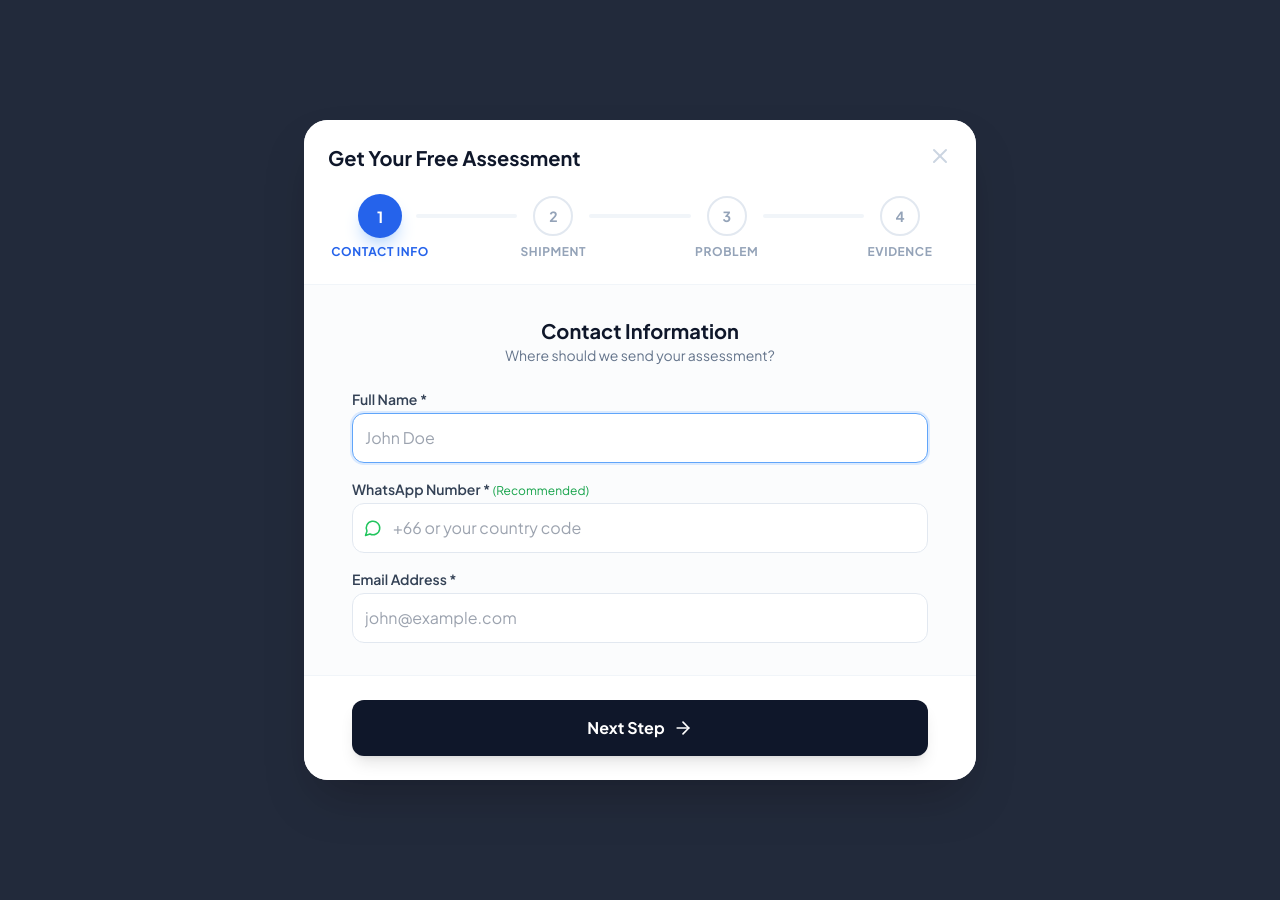
Test: ImportAssessmentWizard Integration › validates step 1 and blocks navigation if empty
# Try to click next without filling anything
Click the button "Next Step": (640, 728) [352,700,928,756]
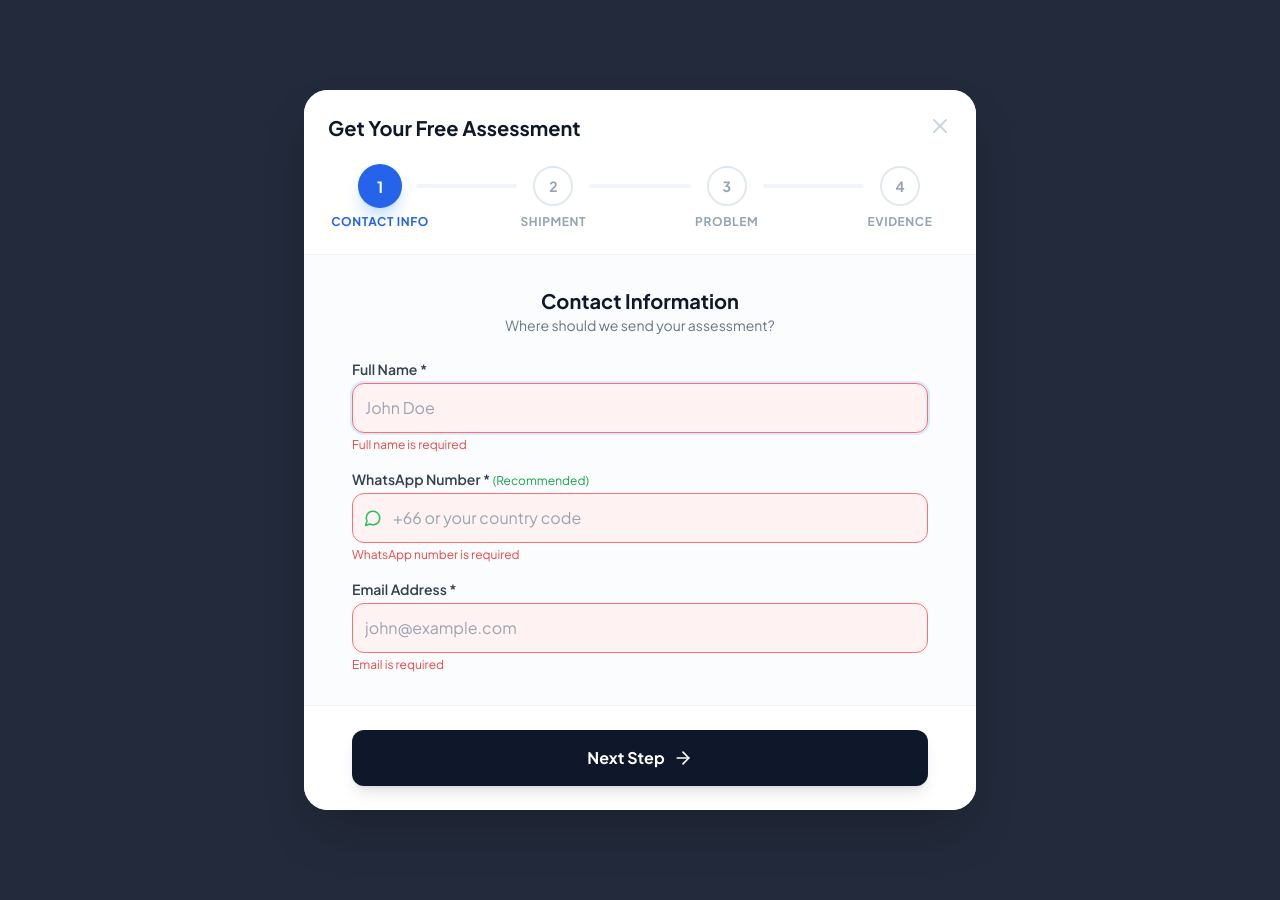
Expected: the heading "Contact Information" is shown, [541,288,739,313]
Now the text "Full name is required" is shown, box [352,437,467,452]
Now the text "WhatsApp number is required" is shown, box [352,547,520,562]
